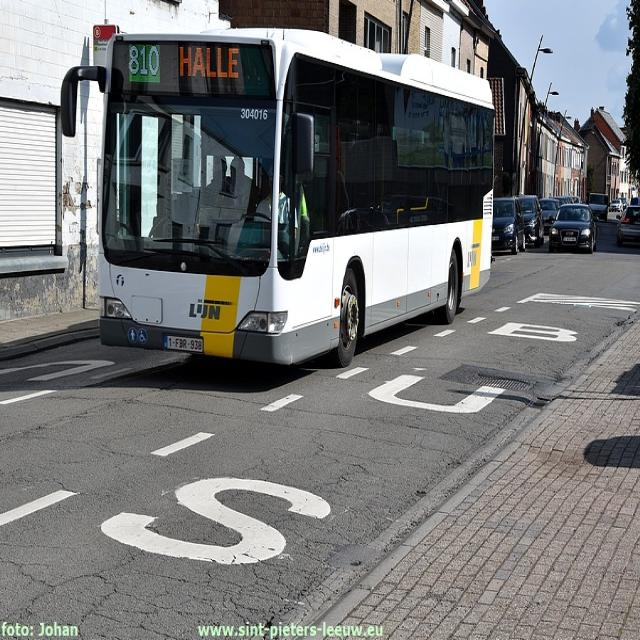bus-number: (128, 42, 160, 80)
